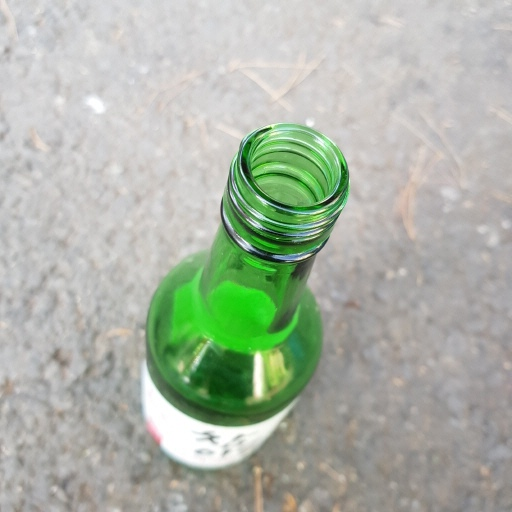Glass_0: (142, 121, 353, 472)
